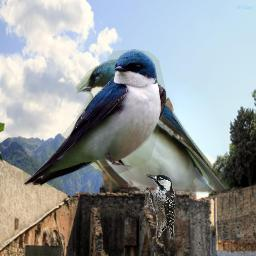Swallow: (76, 57, 232, 215), (23, 49, 167, 187)
Woodpecker: (143, 174, 175, 242)
